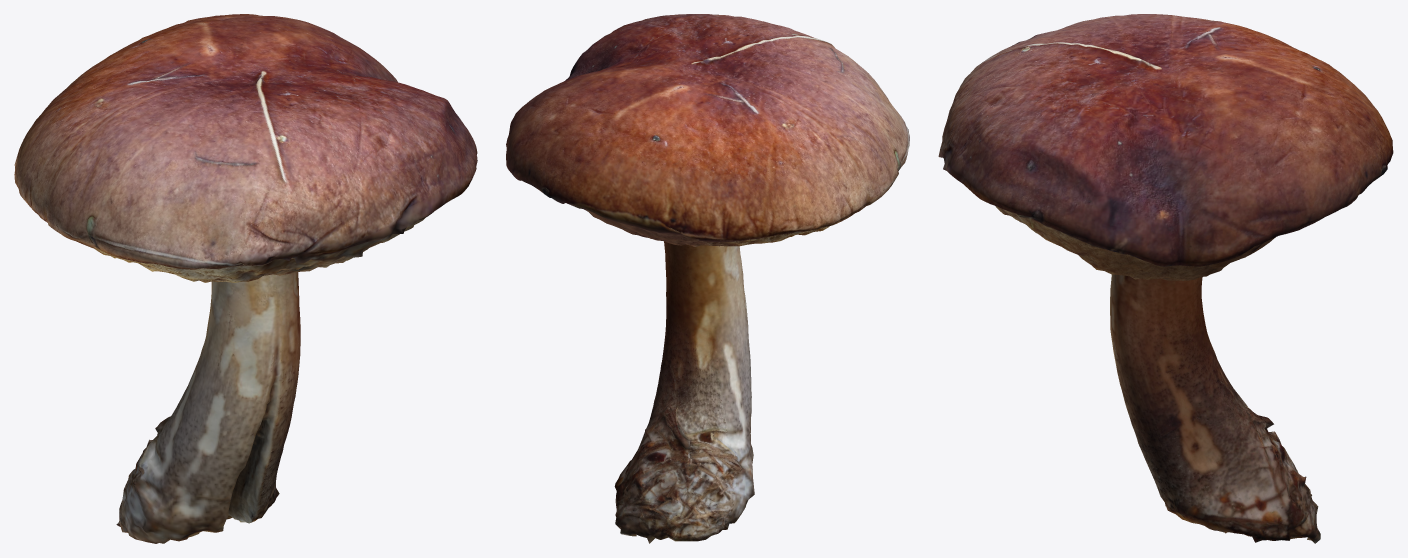
Rendered from 48_SENE_BARAVIKA.FBX.
3 views of the same model, side by side, from view 1: azimuth 30°, elevation 25°; view 2: azimuth 150°, elevation 25°; view 3: azimuth 270°, elevation 25° (orthographic). The views are drawn at different scales.
Visible parts, largest first — view 1: 48_SENE_BARAVIKA; view 2: 48_SENE_BARAVIKA; view 3: 48_SENE_BARAVIKA.
Part boxes in pixels (x1,y1,x2,y2): 48_SENE_BARAVIKA: (14, 14, 477, 543); 48_SENE_BARAVIKA: (506, 14, 909, 543); 48_SENE_BARAVIKA: (938, 14, 1393, 543).
Size of the model in its own units: 126 by 152 by 129.
Materials: 1 (1 with a texture image).
